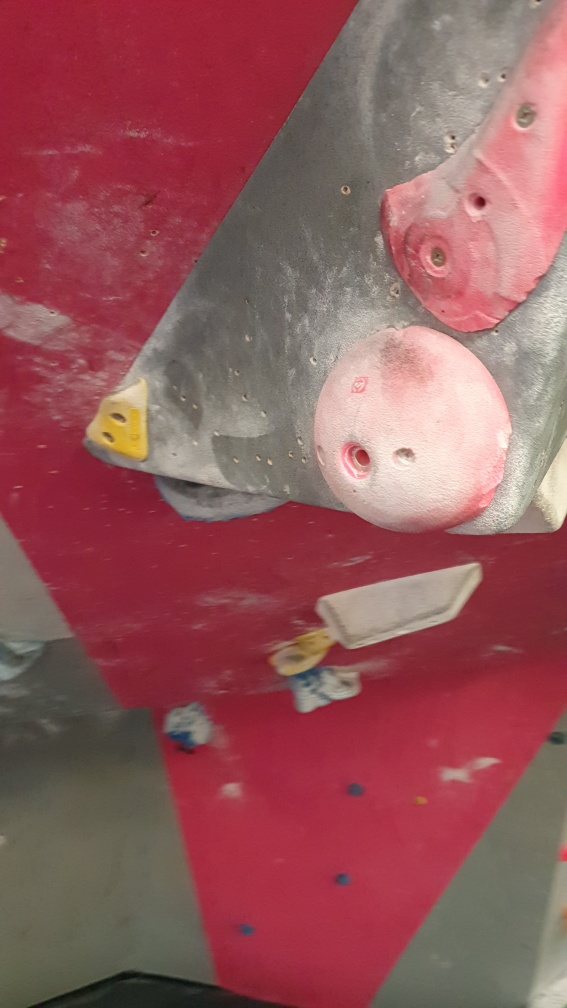Sloper: (310, 326, 512, 538)
